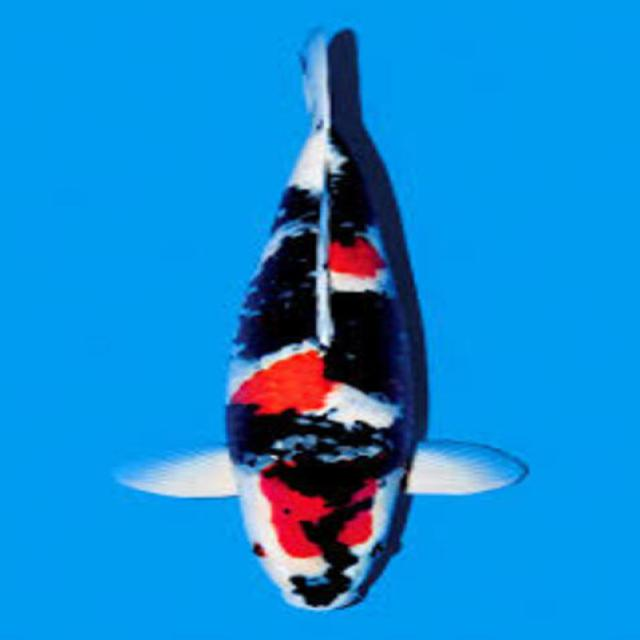Showa: (114, 24, 530, 612)
